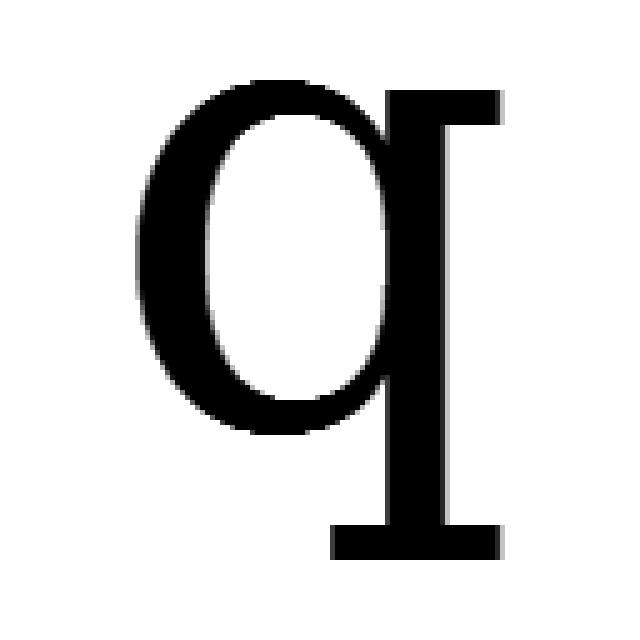Q: (125, 70, 510, 560)
